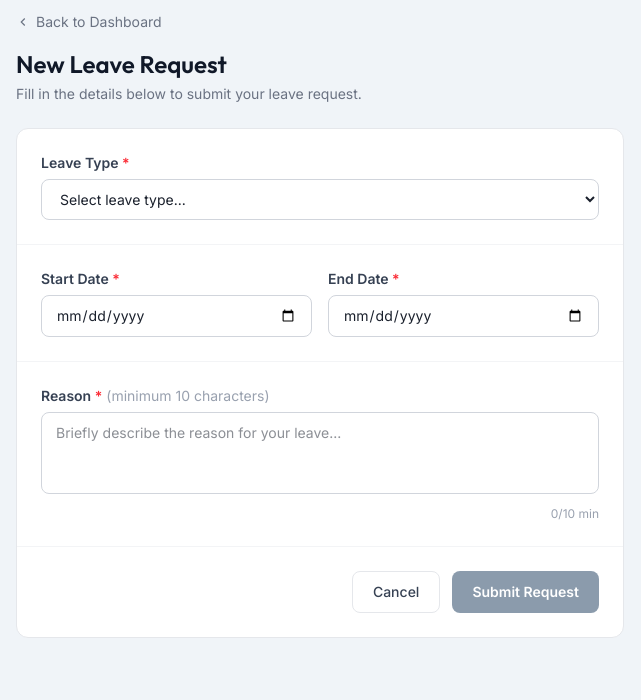
Test case: NewLeaveRequest — balance display and submit gate › disables submit when Sick Leave balance is 0 and shows zero-balance message
The image size is (641, 700).
Select "Sick Leave" in the dropdown labelled "Leave Type *" at (320, 200), box [41, 179, 599, 220]
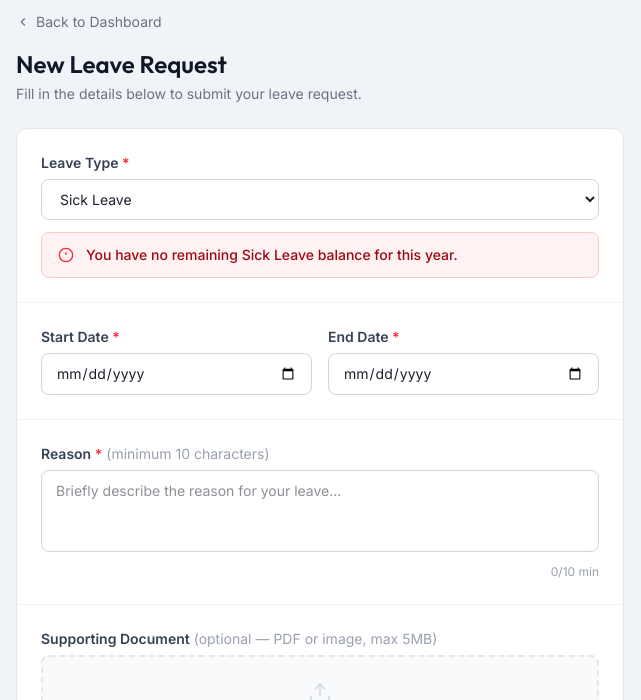
Check: the text "You have no remaining Sick Leave balance for this year." is shown, box [86, 246, 458, 263]
